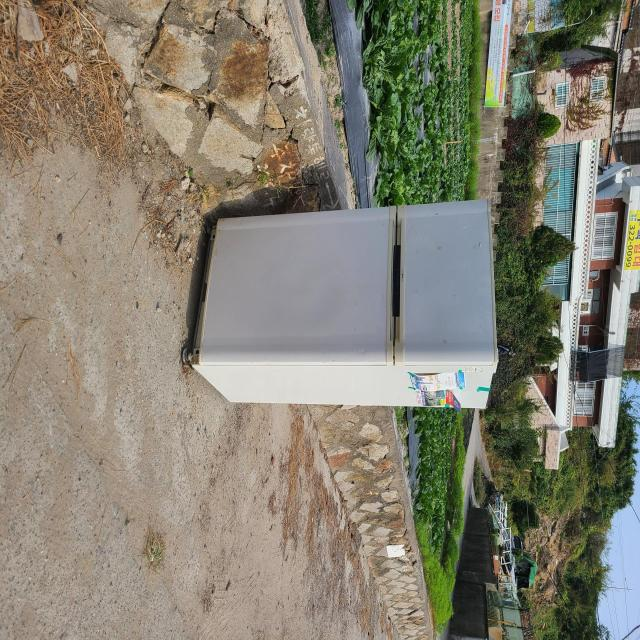refrigerator: (181, 197, 500, 411)
